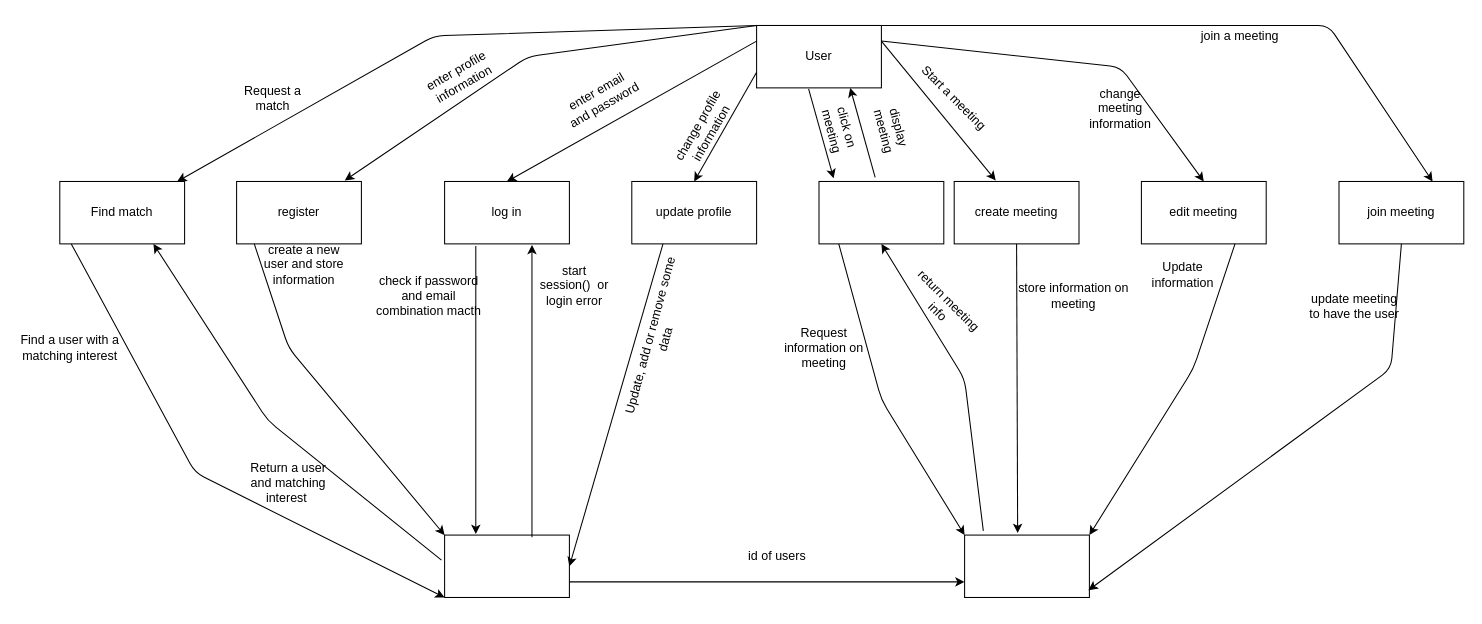
Image size: 1482x624. Some labels were removed from this diagram. The shapes that lost their labels are listed below. From the top down, each one's box as (x1, y1, x2, y2) in pixels, then its label:
(818, 180, 944, 244): View meeting
(444, 534, 569, 597): Users table
(964, 534, 1089, 597): Meetings table
